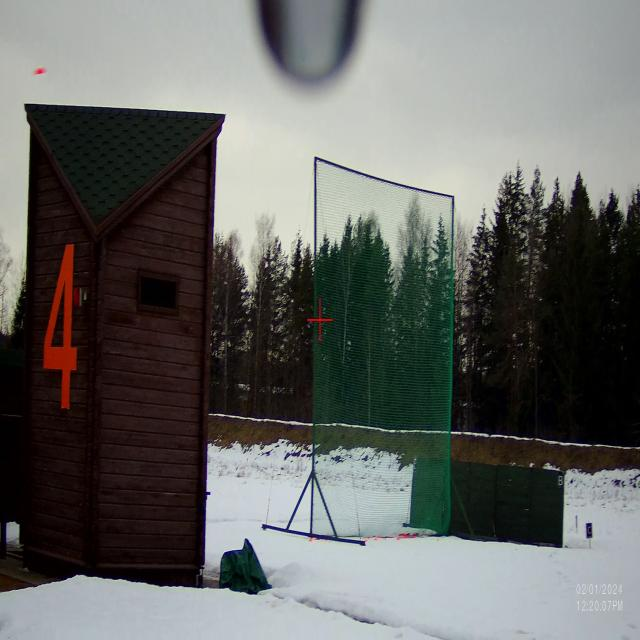entire: (32, 58, 48, 80)
